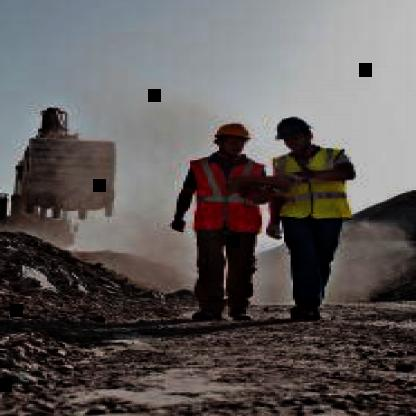helmet: (208, 117, 257, 157), (273, 113, 320, 152)
